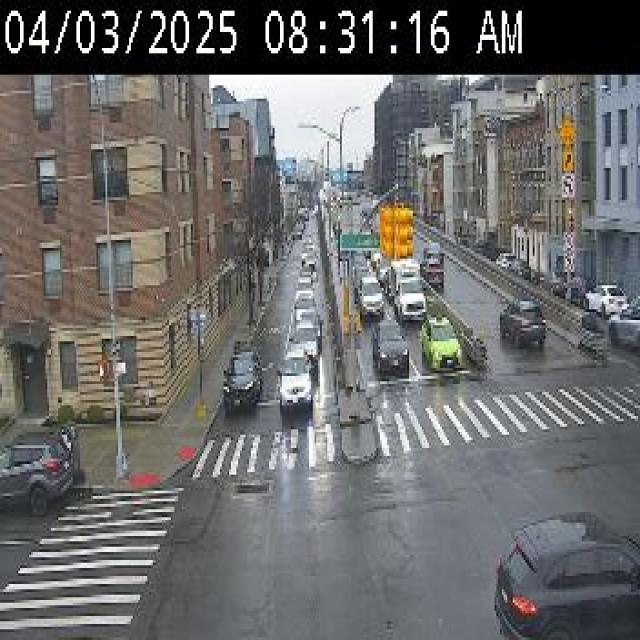parkedCars: (538, 264, 639, 334)
